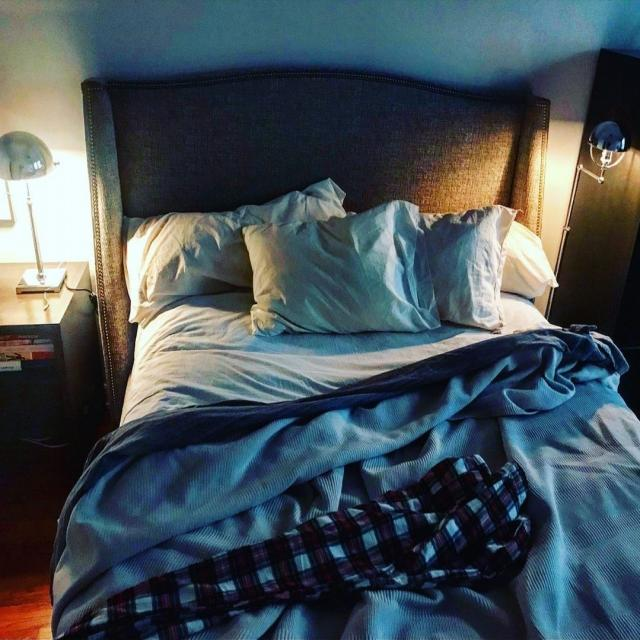bed: (90, 181, 639, 640)
